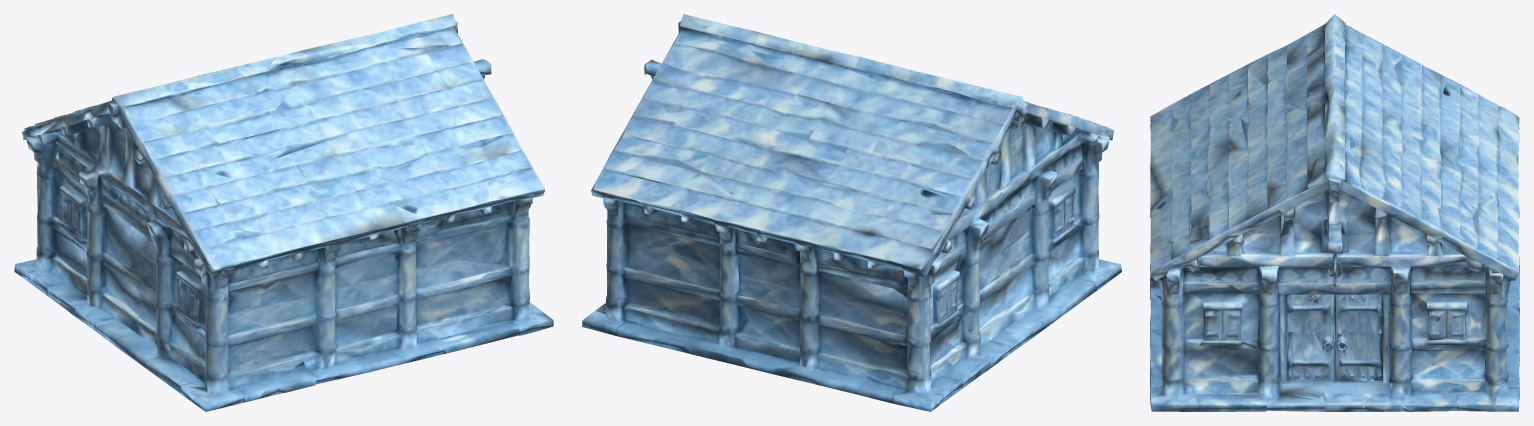
File: storage_ice.glb
3 renders of one model, left to right at view 1: azimuth 30°, elevation 25°; view 2: azimuth 150°, elevation 25°; view 3: azimuth 270°, elevation 25°, orthographic. The views are drawn at different scales.
Parts seen in each view (by area): view 1: tripo_node_fee110ba-4f3a-443e-9f0e-0af60f463de6; view 2: tripo_node_fee110ba-4f3a-443e-9f0e-0af60f463de6; view 3: tripo_node_fee110ba-4f3a-443e-9f0e-0af60f463de6.
Part boxes in pixels (box(x1,y1,x2,y2)): tripo_node_fee110ba-4f3a-443e-9f0e-0af60f463de6: box(14, 14, 553, 411); tripo_node_fee110ba-4f3a-443e-9f0e-0af60f463de6: box(582, 14, 1121, 411); tripo_node_fee110ba-4f3a-443e-9f0e-0af60f463de6: box(1150, 14, 1519, 411).
Size of the model in its own units: 0.9771 by 0.6028 by 0.855.
1 material, 1 textured.
